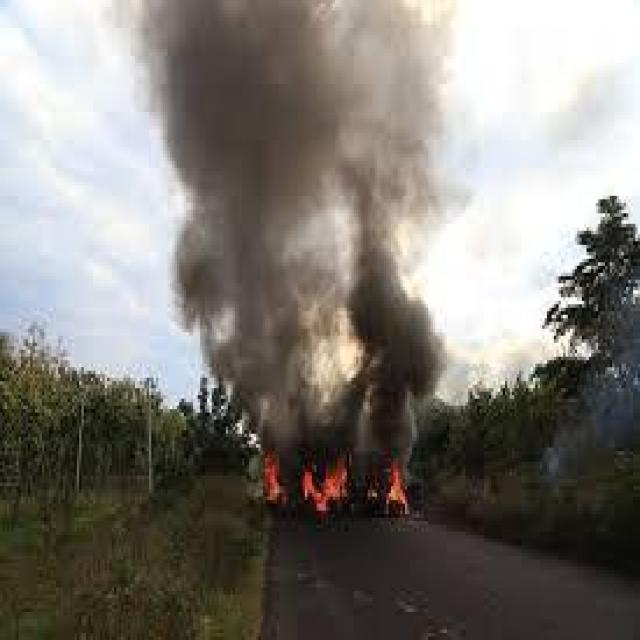fire: (238, 414, 424, 522)
smoke: (131, 6, 444, 394)
